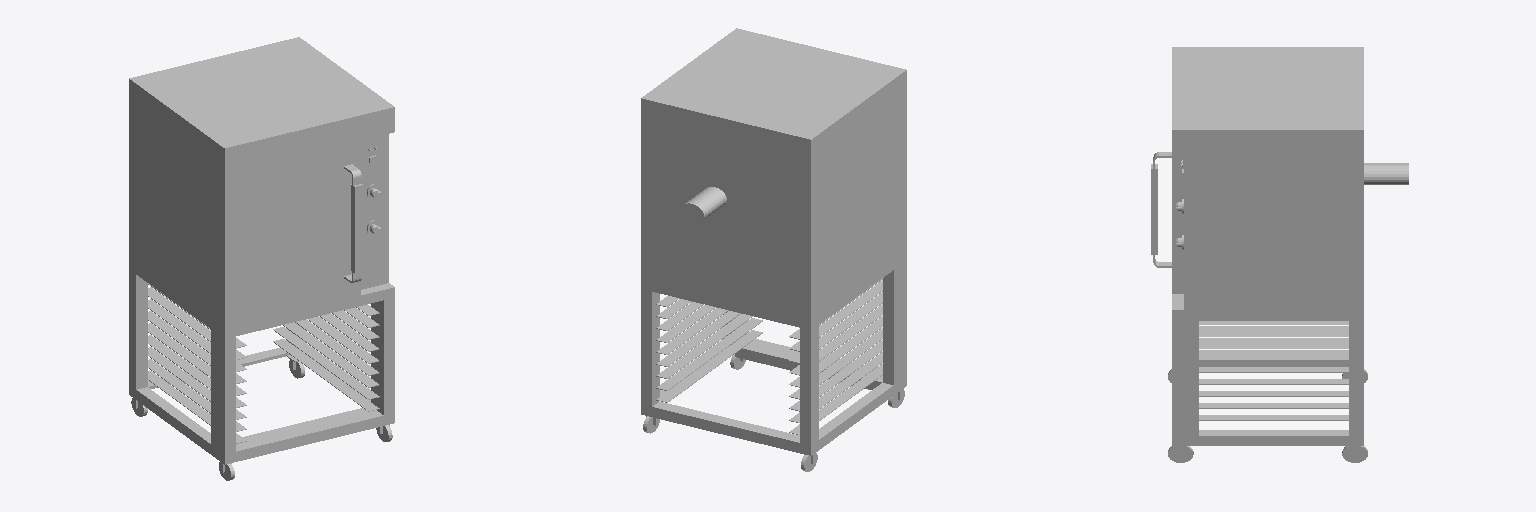
The model's file is Refrijerador.obj.
The picture shows the model from 3 angles: view 1: azimuth 30°, elevation 25°; view 2: azimuth 150°, elevation 25°; view 3: azimuth 270°, elevation 25°; orthographic projection.
Parts seen in each view (by area): view 1: Commercial_Oven_1_001, Agrupar_1_001, Agrupar_1_002, Handle_001; view 2: Commercial_Oven_1_001, Agrupar_1_001, Agrupar_1_002, Group_001; view 3: Commercial_Oven_1_001, Agrupar_1_002, Agrupar_1_001, Group_001, Handle_001.
Part boxes in pixels (bbox=[...]): Commercial_Oven_1_001: bbox=[129, 37, 394, 463]; Agrupar_1_001: bbox=[148, 283, 246, 443]; Agrupar_1_002: bbox=[273, 304, 379, 411]; Handle_001: bbox=[344, 164, 362, 272]; Commercial_Oven_1_001: bbox=[641, 28, 906, 455]; Agrupar_1_001: bbox=[789, 278, 882, 434]; Agrupar_1_002: bbox=[656, 296, 762, 402]; Group_001: bbox=[680, 187, 726, 222]; Commercial_Oven_1_001: bbox=[1172, 47, 1363, 445]; Agrupar_1_002: bbox=[1199, 321, 1348, 420]; Agrupar_1_001: bbox=[1199, 326, 1348, 354]; Group_001: bbox=[1364, 163, 1408, 184]; Handle_001: bbox=[1151, 152, 1171, 254].
Size of the model in its own units: 39 by 73.35 by 51.34.